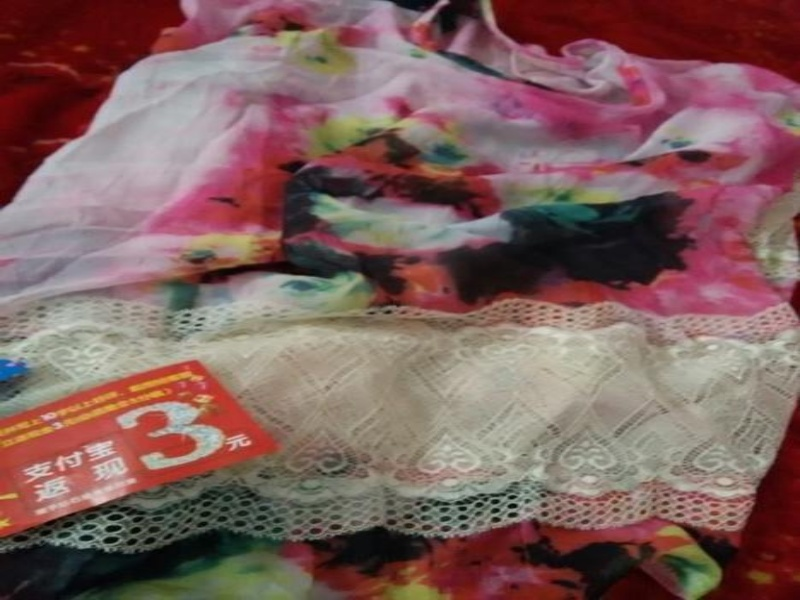long_sleeved_shirt: (0, 0, 797, 599)
